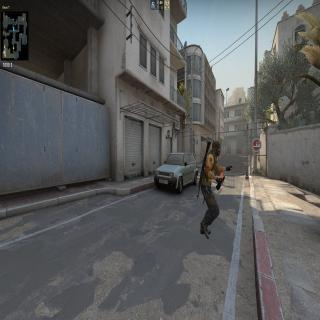T-Head: (212, 139, 221, 158)
